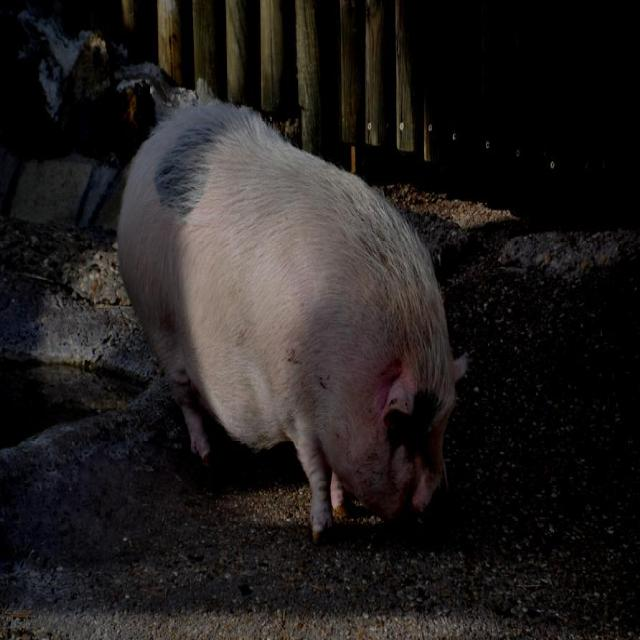pig: (118, 102, 466, 540)
